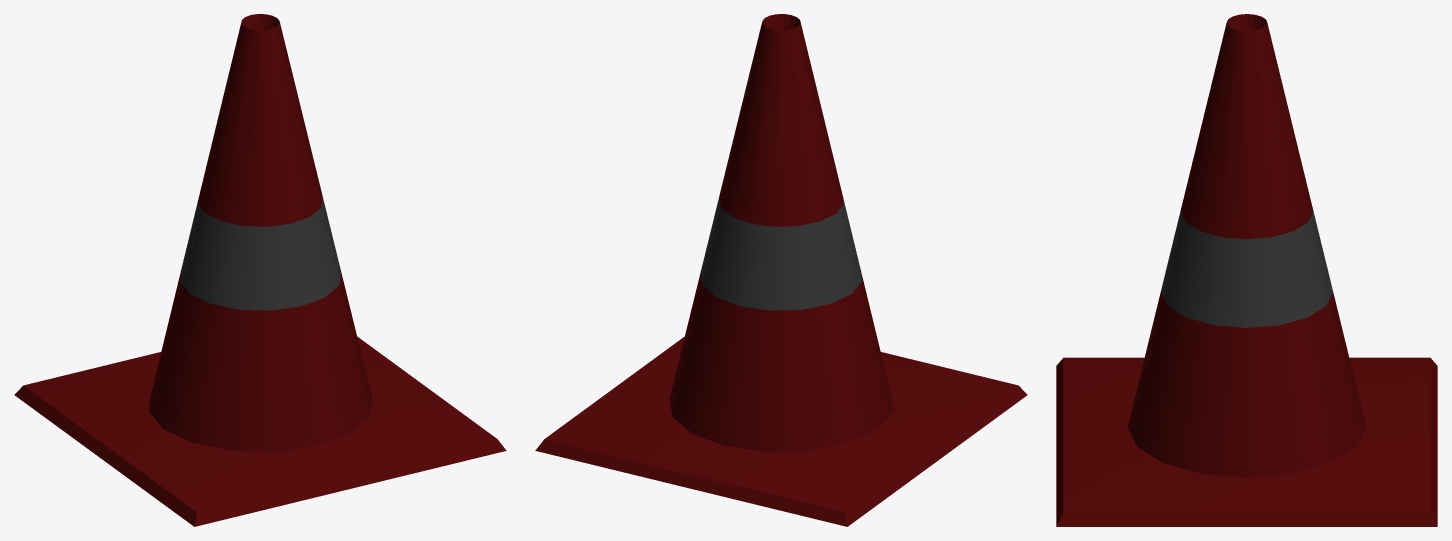
The picture shows the model from 3 angles, left to right: view 1: azimuth 30°, elevation 25°; view 2: azimuth 150°, elevation 25°; view 3: azimuth 270°, elevation 25°; orthographic projection. The views are drawn at different scales.
Visible parts, largest first — view 1: SM_cone; view 2: SM_cone; view 3: SM_cone.
Part boxes in pixels (<box>): SM_cone: <box>14,14,506,526</box>; SM_cone: <box>535,14,1027,526</box>; SM_cone: <box>1056,14,1437,526</box>.
Bounding box in the file's own units: 51.54 × 51.54 × 63.22.
